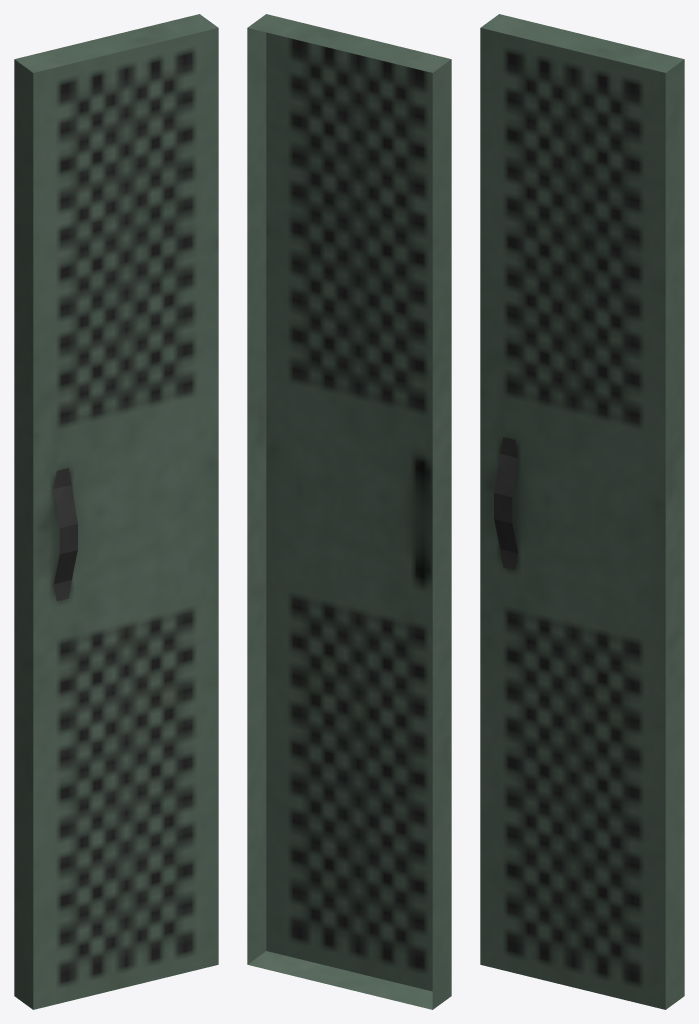
The model's file is Locker Door Right Forest.fbx.
3 views of the same model, side by side, from view 1: azimuth 30°, elevation 25°; view 2: azimuth 150°, elevation 25°; view 3: azimuth 330°, elevation 25° (orthographic).
Visible parts, largest first — view 1: MLocker Door 2; view 2: MLocker Door 2; view 3: MLocker Door 2.
Part boxes in pixels (x1,y1,x2,y2): MLocker Door 2: (14,14,218,1009); MLocker Door 2: (247,14,451,1009); MLocker Door 2: (480,14,684,1009).
Size of the model in its own units: 28.32 by 137 by 6.69.
